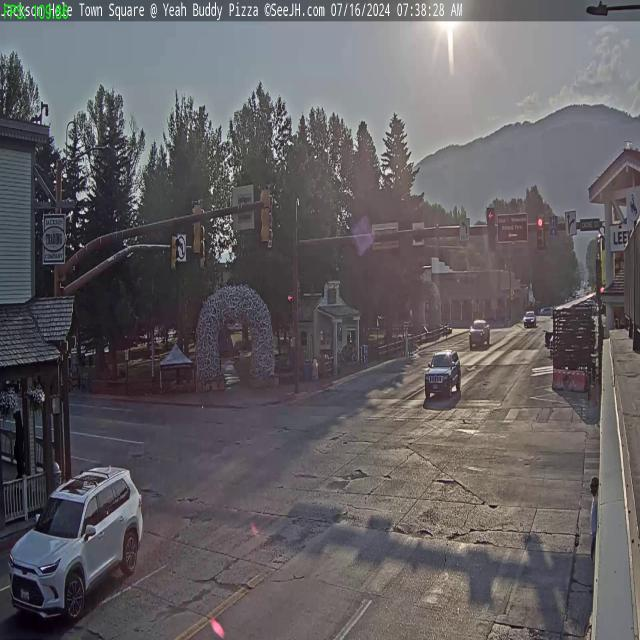pickup: (468, 318, 491, 348)
suv: (5, 462, 144, 620), (424, 346, 461, 399), (524, 310, 536, 326)
traffic light: (190, 199, 204, 257), (260, 183, 272, 244), (486, 207, 496, 256), (170, 233, 180, 272), (537, 214, 545, 249)
